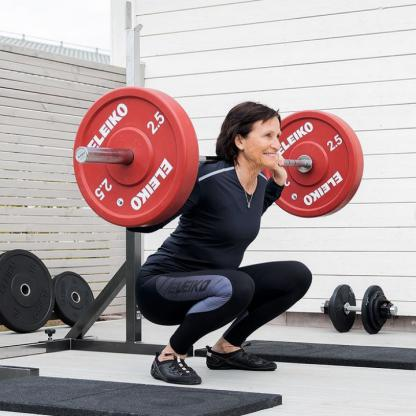Barbell: (66, 80, 204, 235)
